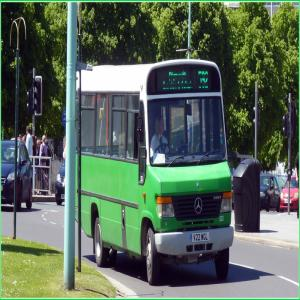Vehicle-registration-plate: (192, 230, 211, 244), (286, 201, 293, 207), (62, 196, 66, 202)
